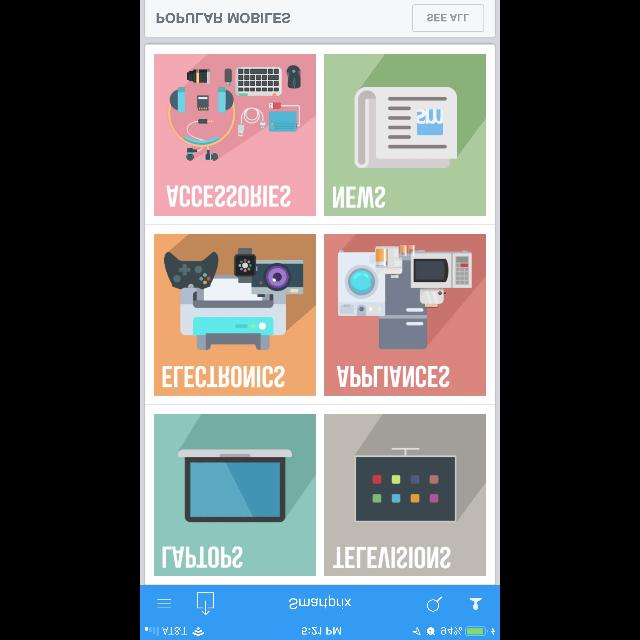icon: (198, 592, 215, 614), (426, 596, 442, 612), (470, 598, 482, 610), (158, 598, 172, 608)
image: (154, 414, 316, 576), (324, 414, 486, 576), (154, 234, 316, 396), (324, 54, 486, 216), (154, 54, 316, 216), (324, 233, 486, 394)
text: (167, 185, 291, 207), (163, 365, 285, 387), (333, 546, 451, 568), (336, 365, 449, 387), (163, 546, 243, 568), (157, 12, 290, 24), (332, 186, 386, 208), (289, 595, 351, 609)
textbutton: (412, 4, 484, 32)
uppertaskbar: (140, 626, 500, 640)
